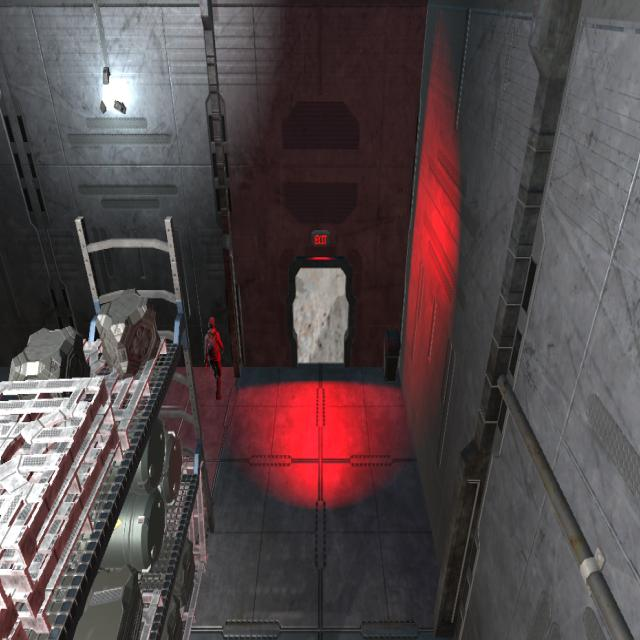thiefs: (203, 315, 229, 405)
